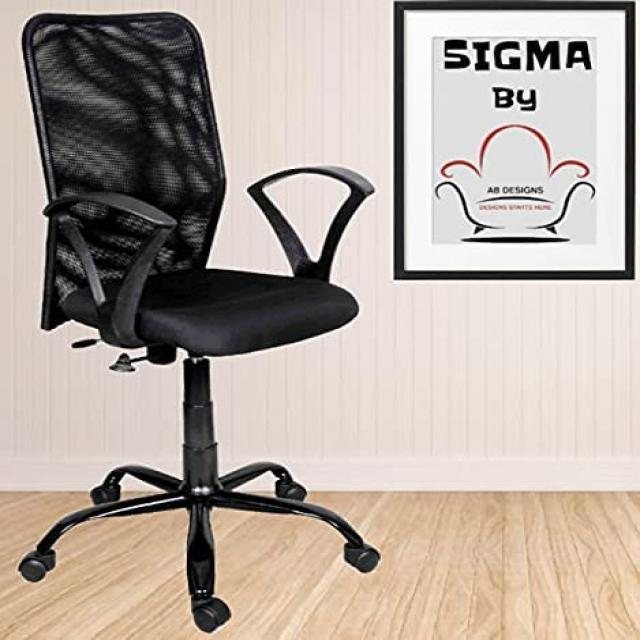chair: (3, 0, 394, 637)
